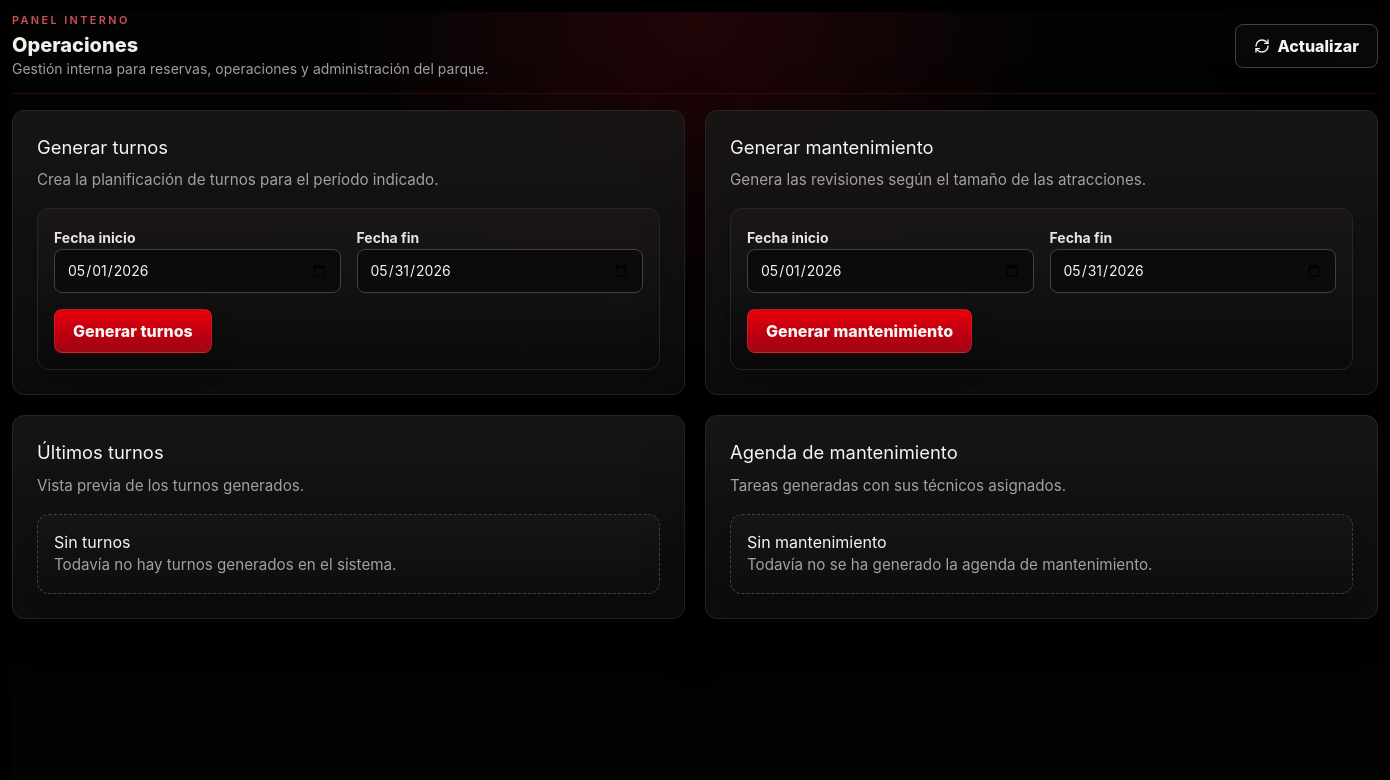
DashboardPage › shows the translated maintenance generation error when the operation fails
The image size is (1390, 780).
Click the button "Generar mantenimiento". click: (860, 331)
box: [747,309,972,353]
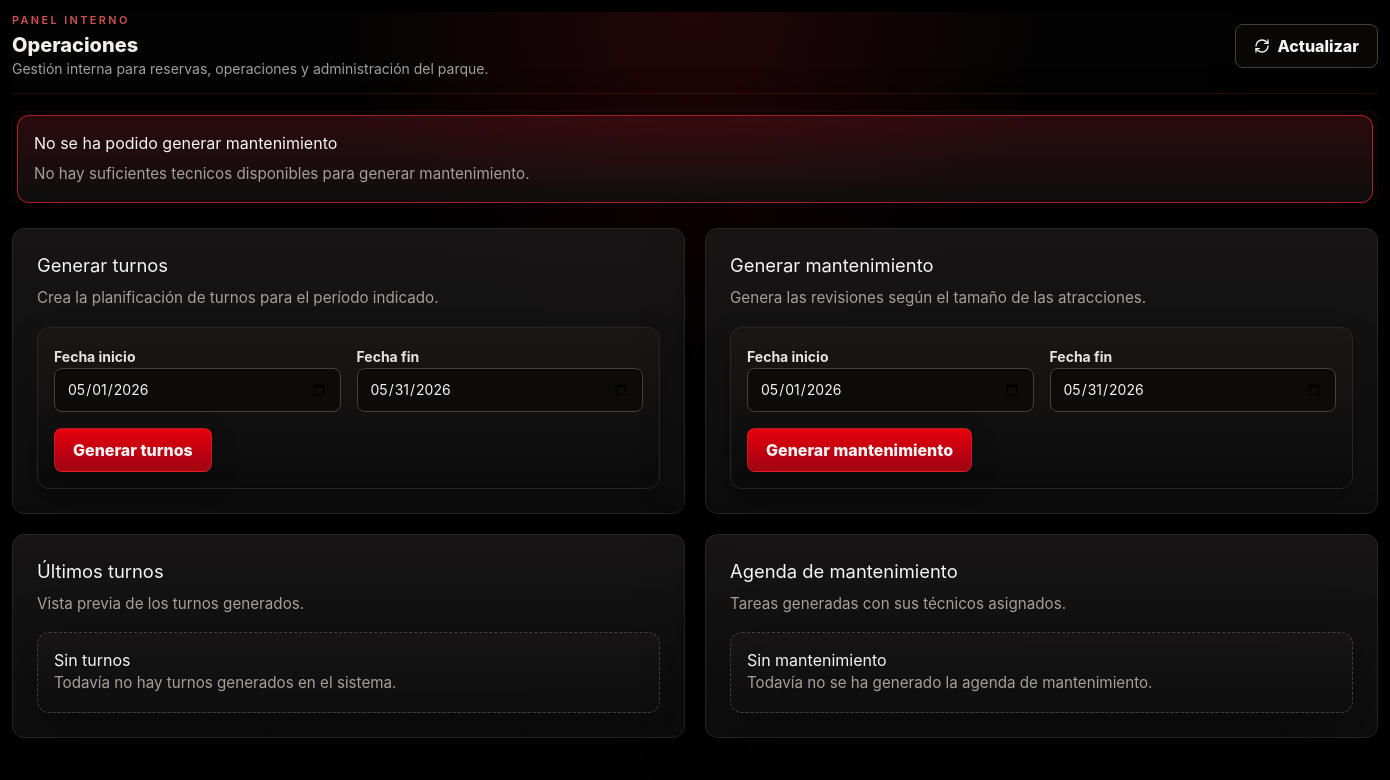
Expected: the text "No hay suficientes tecnicos disponibles para generar mantenimiento." is shown, [34,164,530,183]
